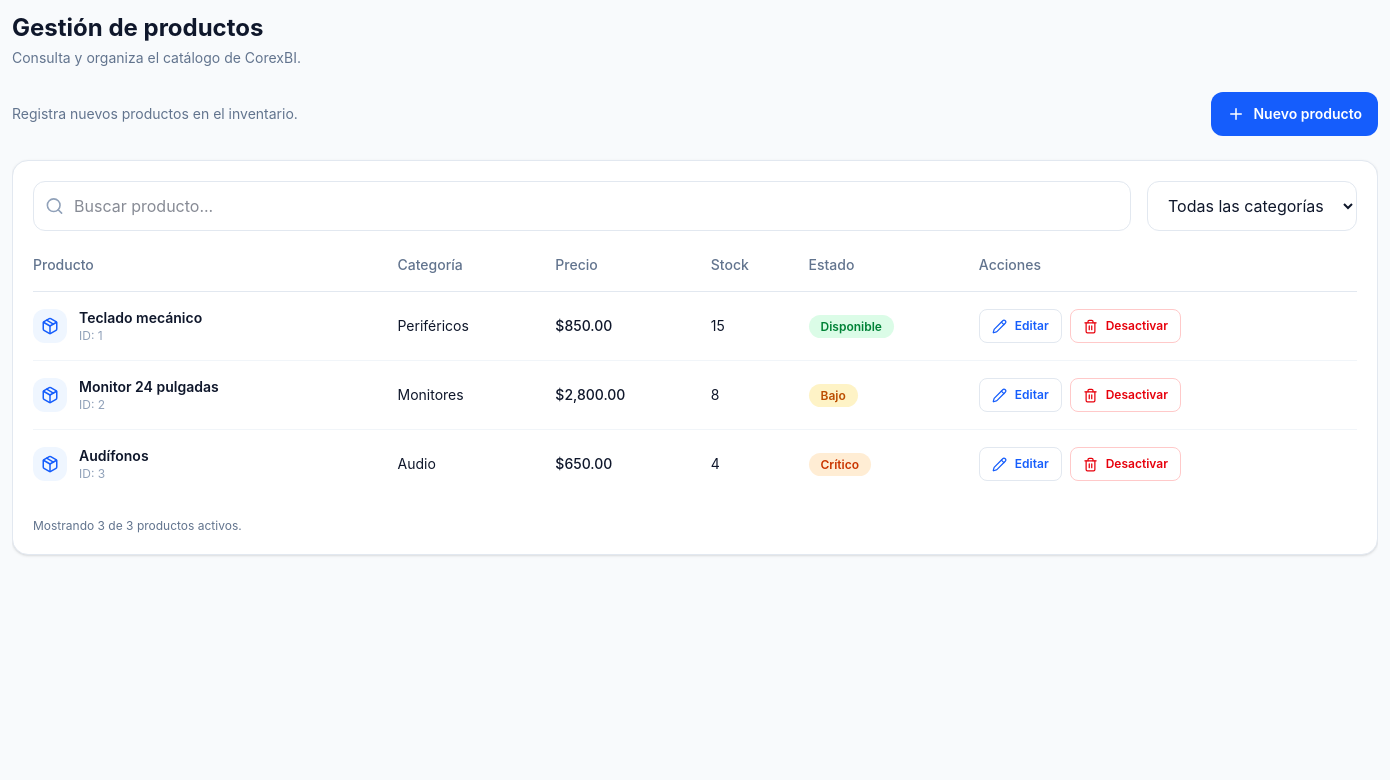
ProductsPage › filtra productos por nombre
The image size is (1390, 780).
Expected: the text "Teclado mecánico" is shown, 79,308 -> 202,328
Expected: the text "Monitor 24 pulgadas" is shown, 79,377 -> 219,397
Type "Monitor" into the search field labelled "Buscar producto". click: (582, 206)
box: 33,181 -> 1131,231
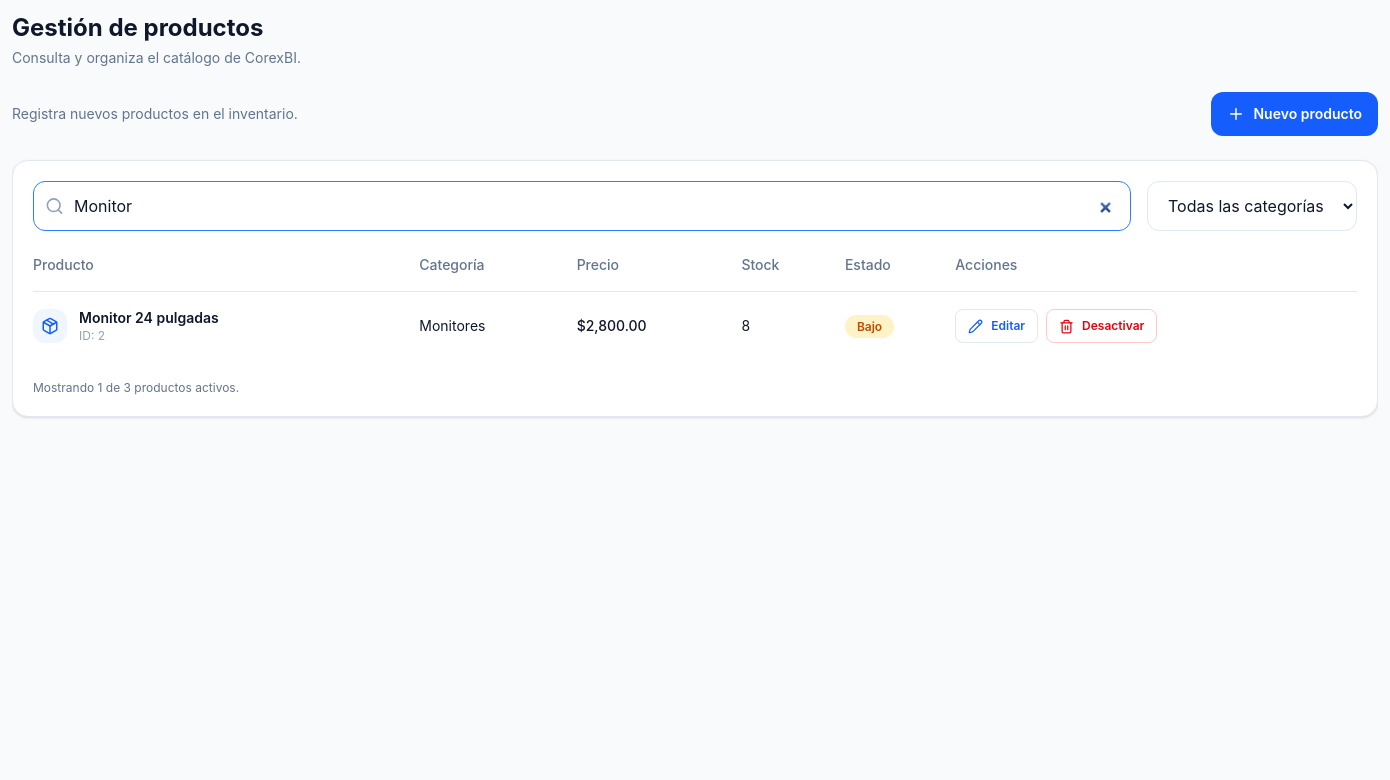
Expected: the text "Monitor 24 pulgadas" is shown, 79,308 -> 219,328
Result: the text "Teclado mecánico" is gone
Result: the text "Audífonos" is gone
